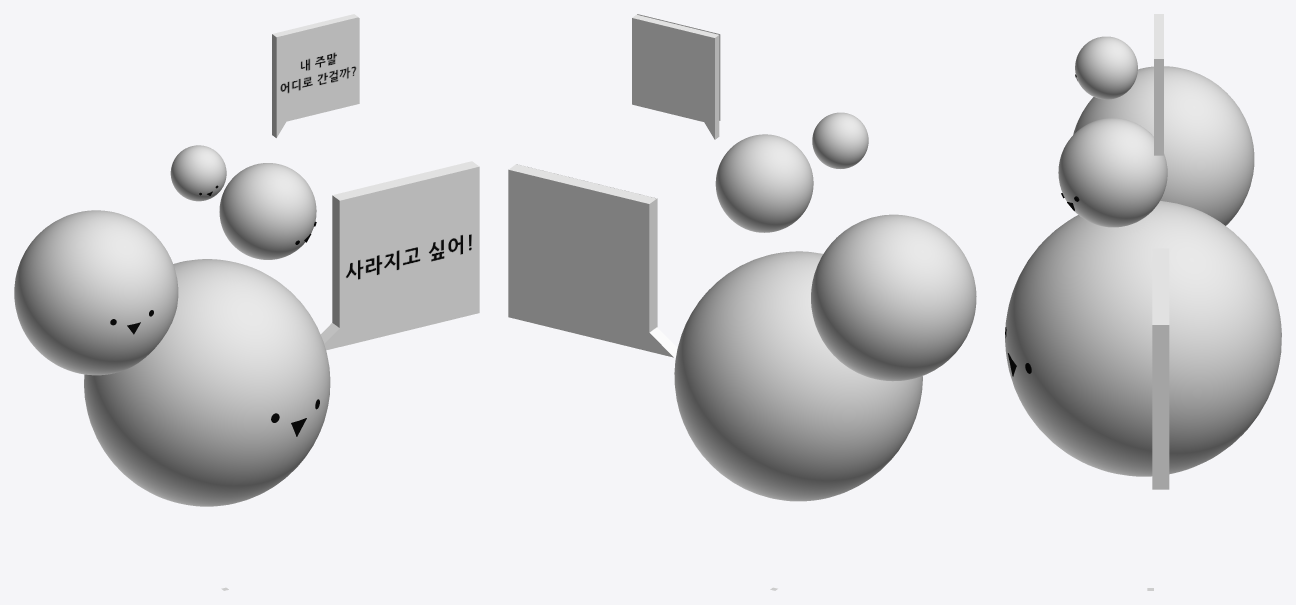
3 renders of one model, left to right at view 1: azimuth 30°, elevation 25°; view 2: azimuth 150°, elevation 25°; view 3: azimuth 270°, elevation 25°, orthographic. The views are drawn at different scales.
Parts seen in each view (by area): view 1: Sphere, Sphere.001, Plane.002, Sphere.002, Plane.005, Plane.003, Sphere.003, Plane.004; view 2: Sphere, Plane.003, Sphere.001, Plane.004, Sphere.002, Sphere.003; view 3: Sphere, Sphere.001, Sphere.002, Plane.003, Sphere.003, Plane.004.
Boxes of the visible parts, left/top/right/bottom form: Sphere: left=84, top=259, right=330, bottom=506; Sphere.001: left=14, top=210, right=178, bottom=375; Plane.002: left=340, top=167, right=479, bottom=346; Sphere.002: left=219, top=163, right=316, bottom=259; Plane.005: left=277, top=18, right=359, bottom=123; Plane.003: left=320, top=161, right=479, bottom=350; Sphere.003: left=170, top=145, right=226, bottom=201; Plane.004: left=272, top=14, right=358, bottom=137; Sphere: left=674, top=251, right=922, bottom=501; Plane.003: left=508, top=164, right=677, bottom=357; Sphere.001: left=811, top=214, right=976, bottom=381; Plane.004: left=632, top=14, right=719, bottom=139; Sphere.002: left=715, top=134, right=813, bottom=232; Sphere.003: left=812, top=112, right=868, bottom=168; Sphere: left=1005, top=201, right=1281, bottom=476; Sphere.001: left=1073, top=66, right=1254, bottom=225; Sphere.002: left=1058, top=118, right=1167, bottom=227; Plane.003: left=1152, top=248, right=1169, bottom=489; Sphere.003: left=1075, top=36, right=1137, bottom=99; Plane.004: left=1154, top=14, right=1163, bottom=155.
Size of the model in its own units: 4.16 by 4.75 by 1.97.
Materials: 17 (2 with a texture image).
